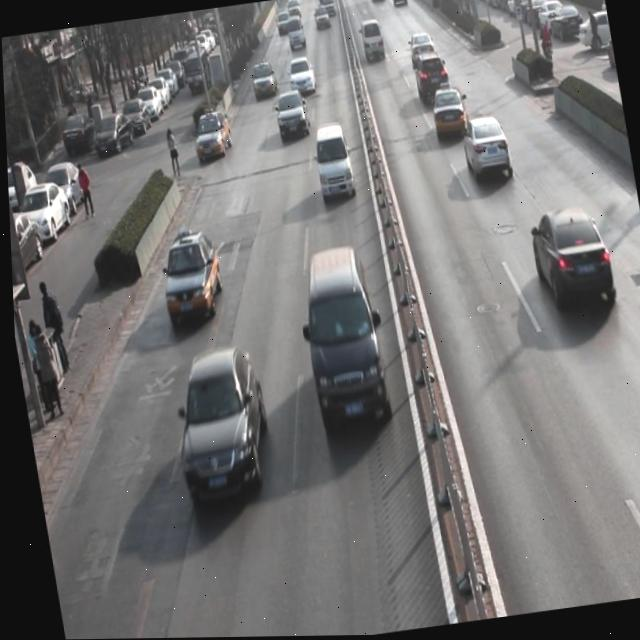car: (160, 343, 276, 509), (523, 200, 620, 326), (154, 231, 225, 328), (459, 114, 515, 186), (188, 109, 233, 164), (271, 88, 312, 147), (411, 51, 453, 108), (426, 83, 467, 139), (405, 29, 437, 71), (286, 57, 317, 99), (249, 60, 278, 102)
truck: (288, 246, 392, 436), (309, 124, 356, 206), (357, 19, 387, 67), (284, 13, 307, 54)
